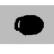correct: (12, 12, 46, 37)
